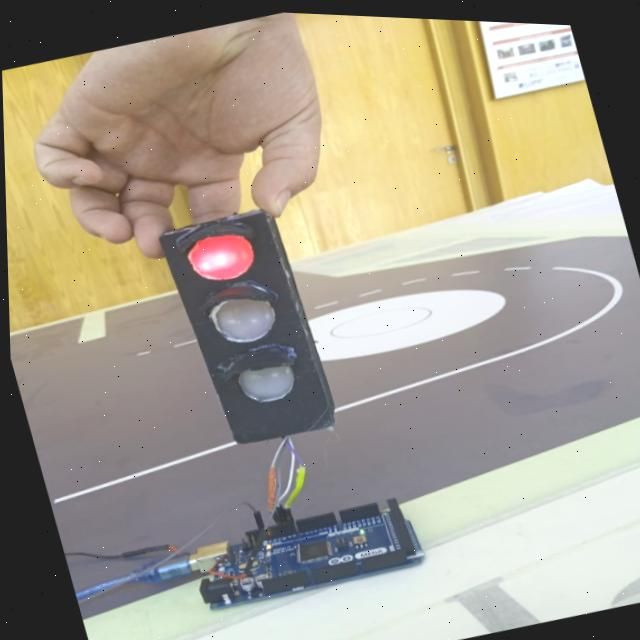red: (188, 233, 254, 280)
trafic lights: (160, 210, 334, 444)
